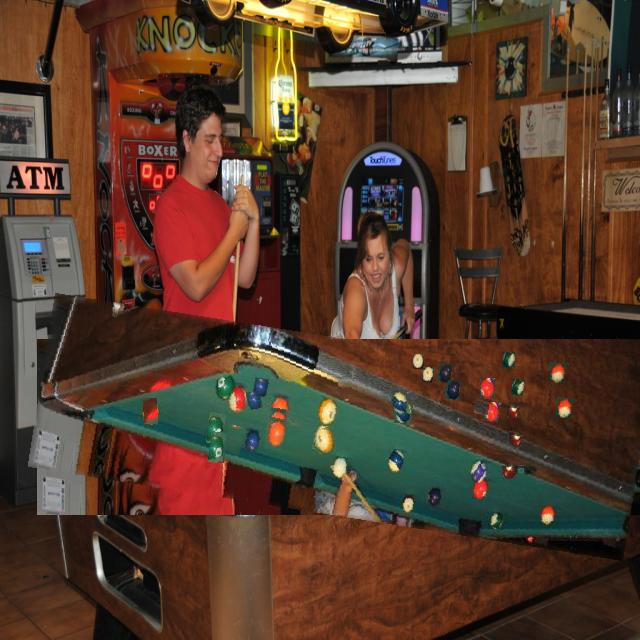Ball: (266, 418, 286, 451), (224, 426, 245, 454), (314, 427, 335, 454), (209, 432, 226, 463), (391, 390, 409, 414), (549, 362, 567, 384), (143, 398, 158, 424), (338, 375, 353, 399), (247, 390, 263, 410), (437, 363, 453, 382), (480, 378, 495, 398), (475, 396, 490, 415), (508, 404, 522, 418), (503, 352, 515, 368), (413, 354, 424, 369)
Billiard table: (32, 316, 640, 537)
